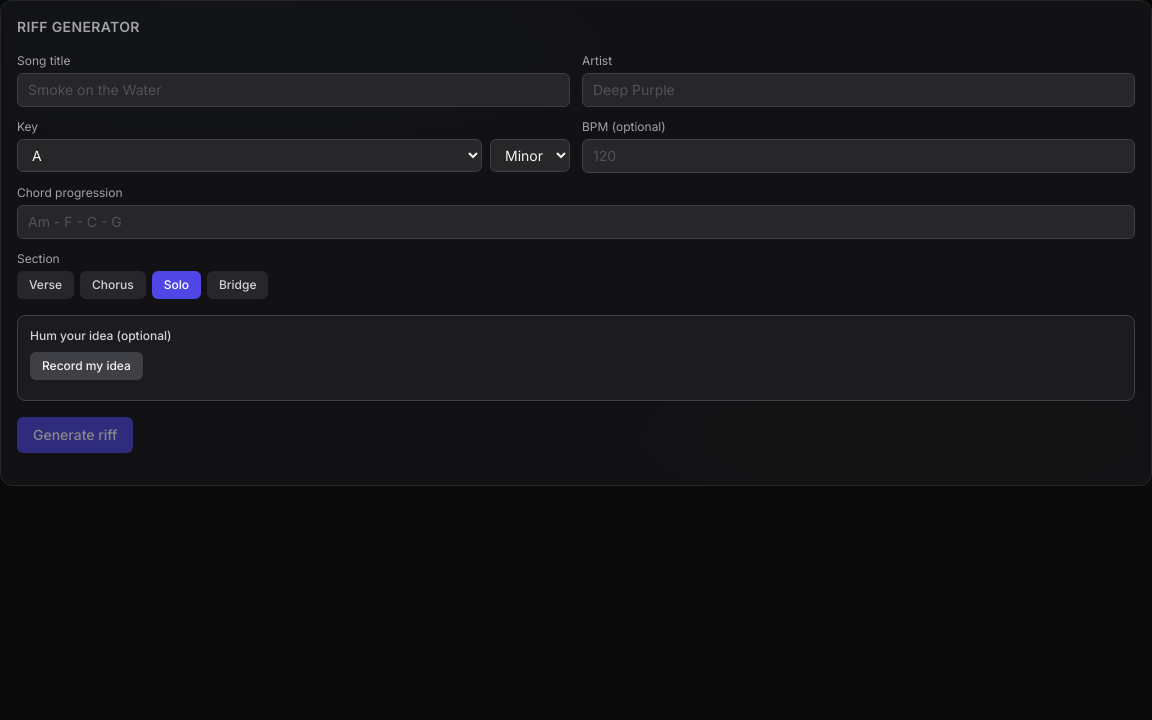
RiffGenerator › shows an error message on a failed API response
Step 1. Type "Test Song" into the field with placeholder "Smoke on the Water" → (294, 90), box [17,73,570,107]
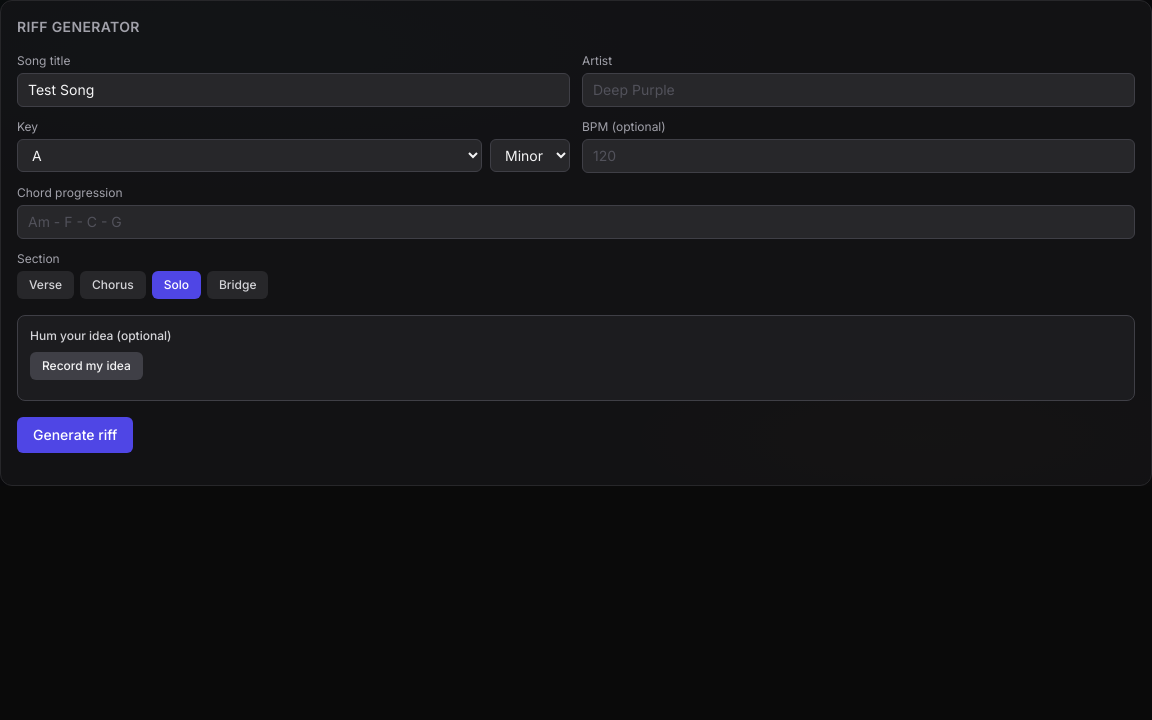
Step 2. Click the button "Generate riff" → (75, 435), box [17,417,133,453]
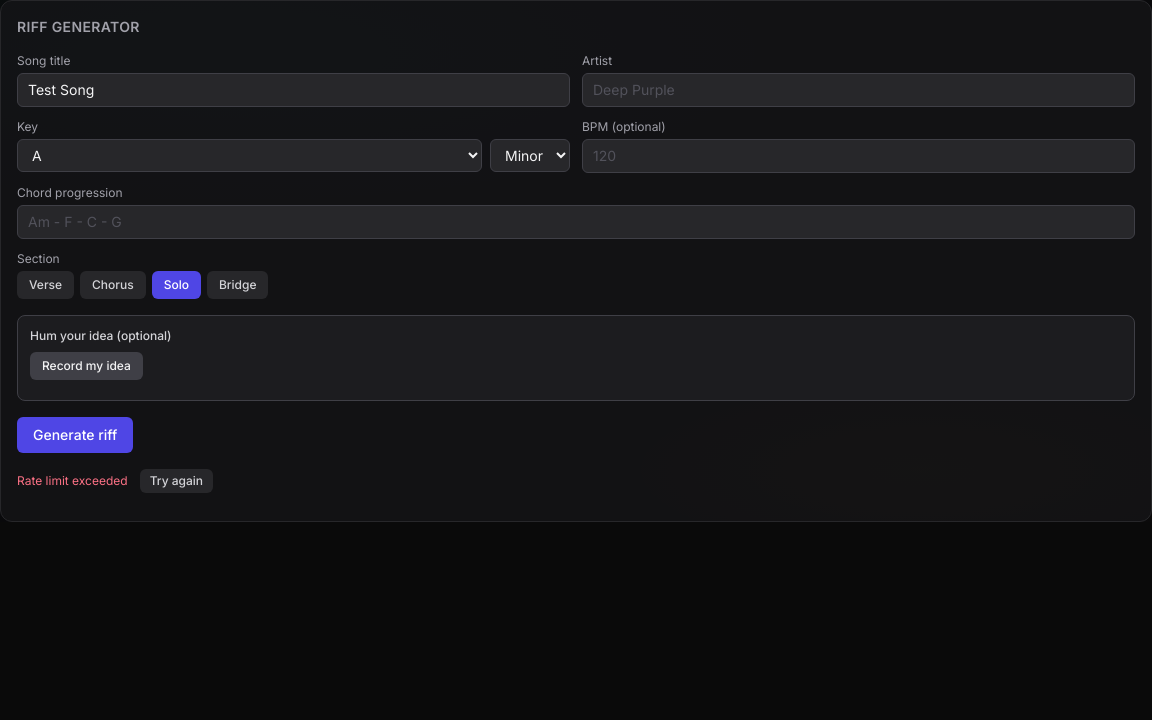
Now the text "Rate limit exceeded" is shown, box [17,473,128,489]
